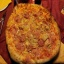pepperoni: (32, 35, 45, 47), (12, 16, 23, 24), (19, 34, 28, 41), (15, 45, 24, 50)
pizza: (6, 2, 62, 64)
